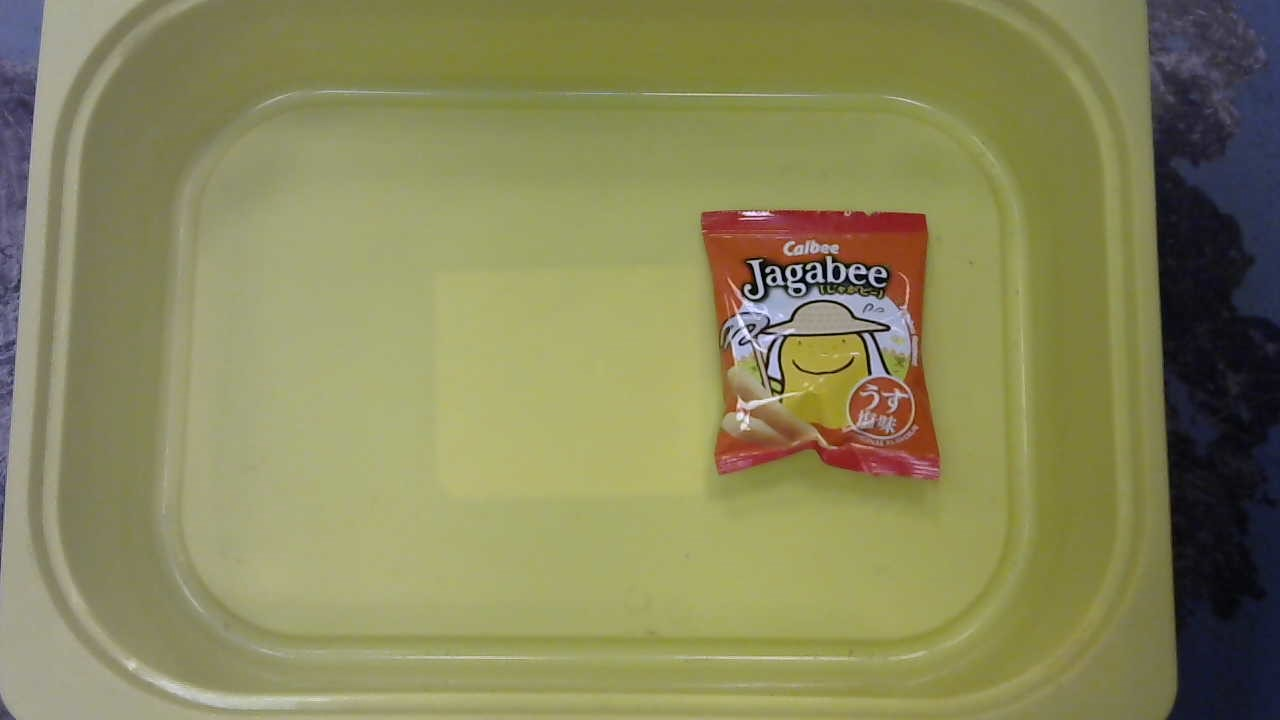JagabeeFarmer: (693, 201, 953, 491)
